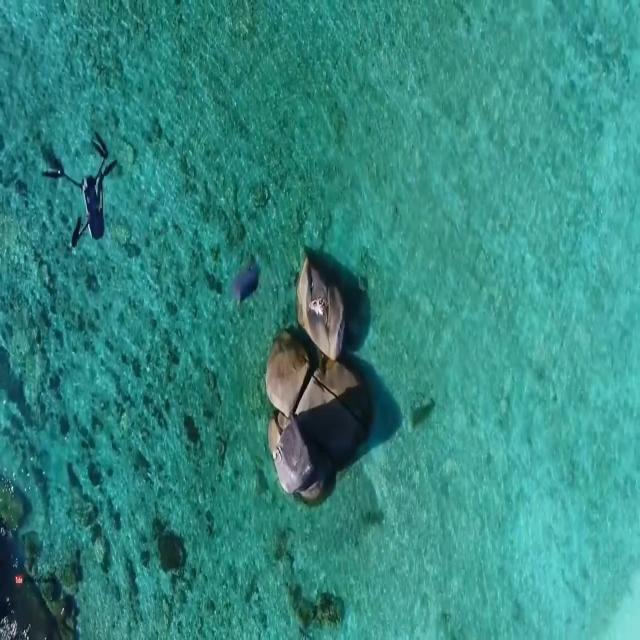Vehicle: (41, 127, 121, 260), (227, 258, 265, 322)
